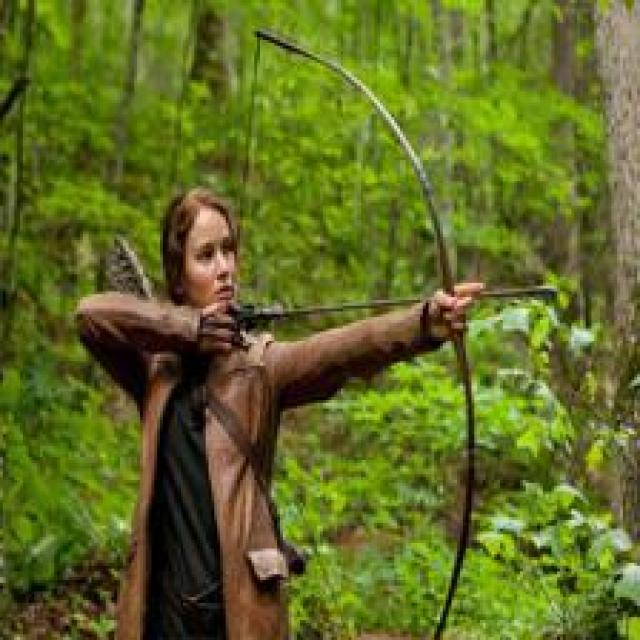X-Bow: (316, 31, 567, 640)
